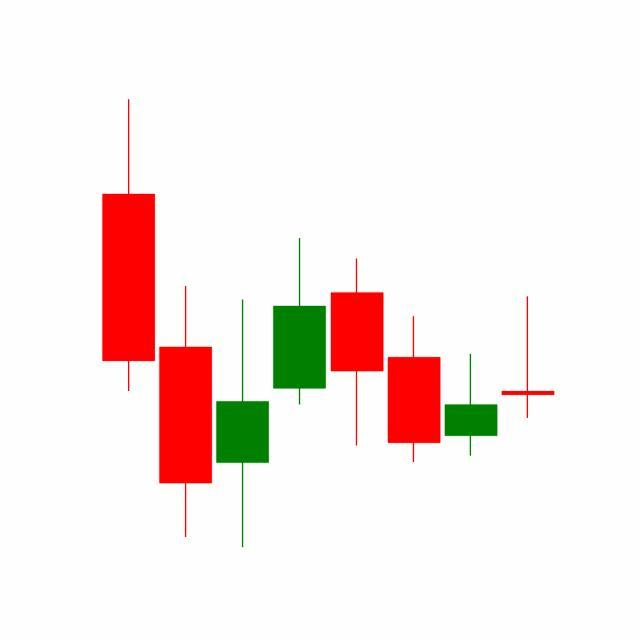Hikkake Pattern: (270, 236, 555, 466)
